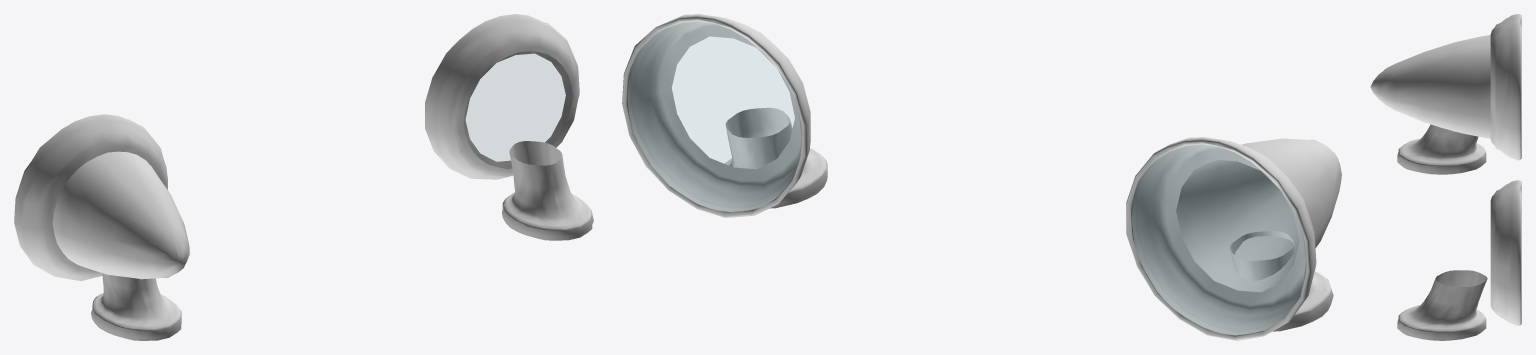
Rendered from Mirrors isolated.gltf.
3 views of the same model, side by side, from view 1: azimuth 30°, elevation 25°; view 2: azimuth 150°, elevation 25°; view 3: azimuth 270°, elevation 25° (orthographic). The views are drawn at different scales.
Parts seen in each view (by area): view 1: mirror right v6(Mirror) (×2), mirror left v6 (×3); view 2: mirror right v6(Mirror) (×3), mirror left v6 (×3); view 3: mirror right v6(Mirror) (×2), mirror left v6 (×2).
Part boxes in pixels (x1,y1,x2,y2): mirror right v6(Mirror) (×2): (14,114,189,340); mirror left v6 (×3): (425,14,593,240); mirror right v6(Mirror) (×3): (1126,137,1341,340); mirror left v6 (×3): (622,14,827,217); mirror right v6(Mirror) (×2): (1370,14,1521,174); mirror left v6 (×2): (1397,180,1521,340).
Bounding box in the file's own units: 38.02 × 10.9 × 10.7.
